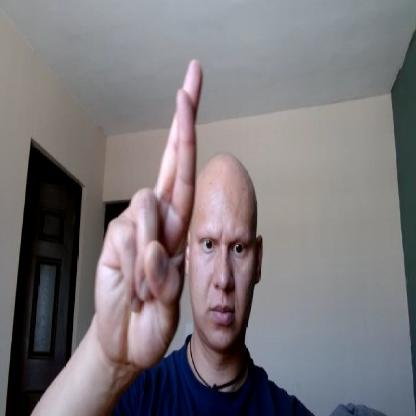R: (96, 54, 204, 365)
